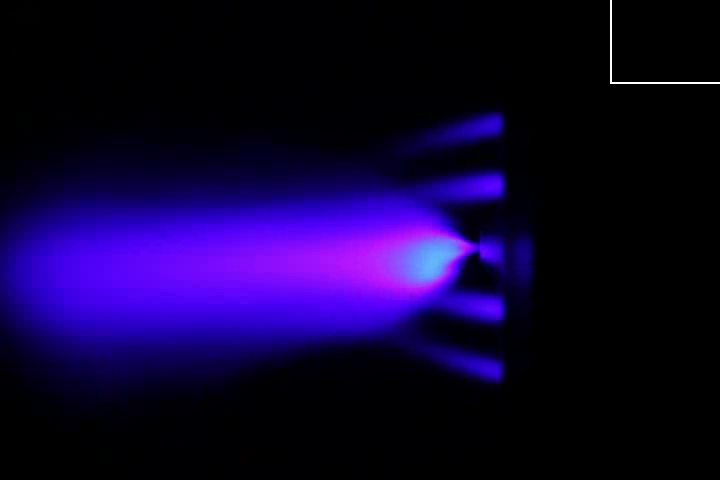burner cap: (478, 231, 503, 268)
pilot flame: (402, 337, 506, 384), (405, 106, 500, 149), (408, 173, 502, 202), (433, 288, 504, 321)
stable: (349, 223, 478, 297)
